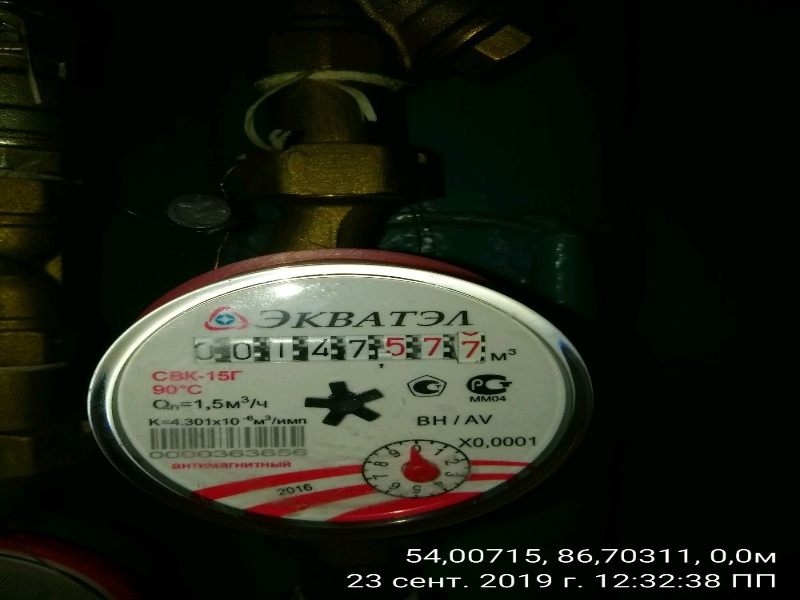meter: (182, 332, 485, 366)
